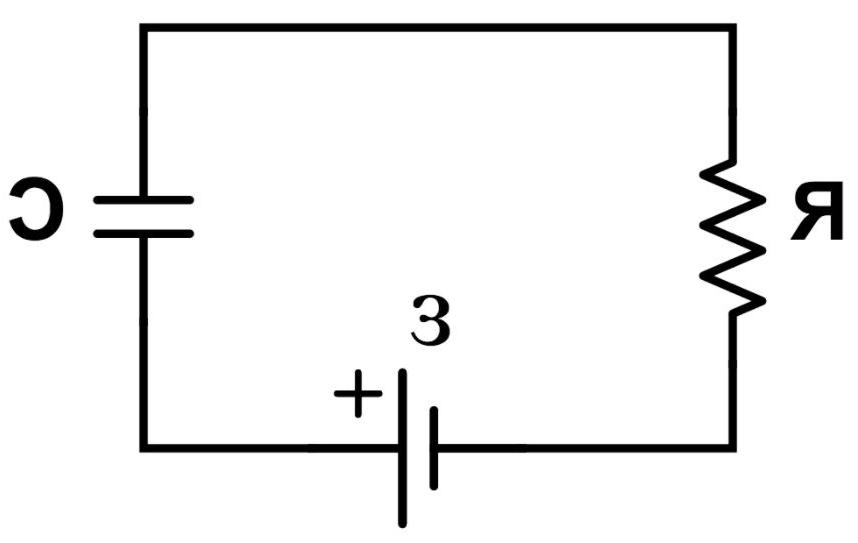Capacitor: (77, 147, 226, 292)
